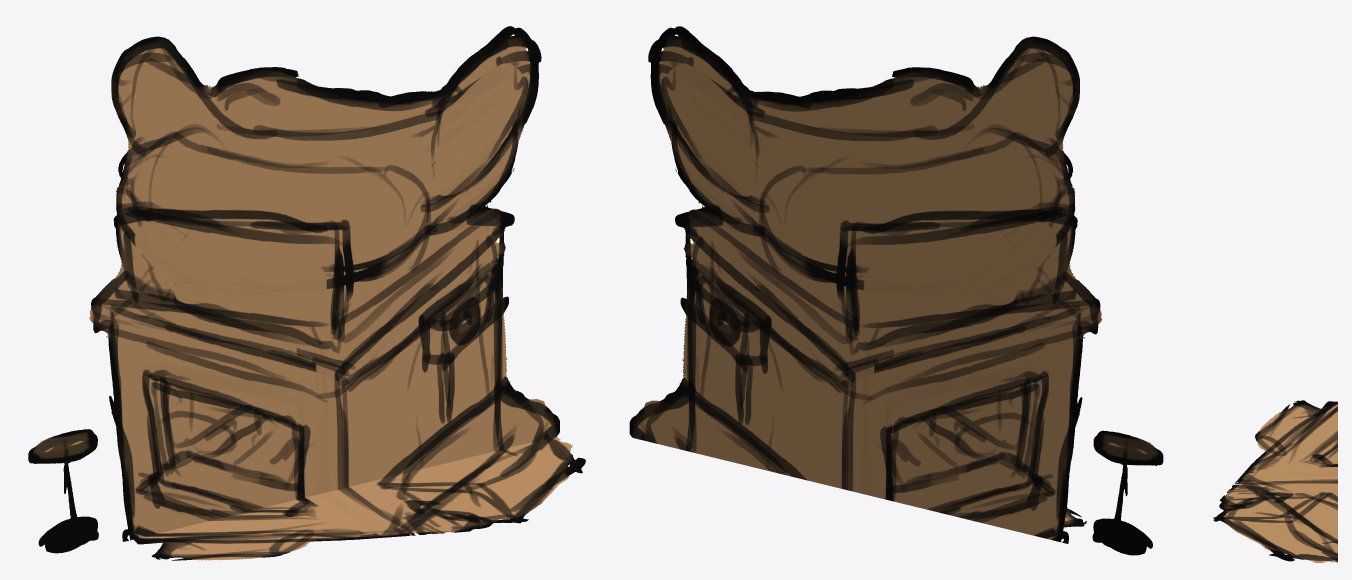
The model's file is kiosk_model.fbx.
3 views of the same model, side by side, from view 1: azimuth 30°, elevation 25°; view 2: azimuth 150°, elevation 25°; view 3: azimuth 270°, elevation 25° (orthographic). The views are drawn at different scales.
Parts seen in each view (by area): view 1: kiosk; view 2: kiosk; view 3: kiosk.
Boxes of the visible parts, bbox=[...] form: kiosk: bbox=[28, 26, 585, 560]; kiosk: bbox=[629, 26, 1163, 555]; kiosk: bbox=[1213, 400, 1337, 563].
Size of the model in its own units: 880 by 766 by 234.
